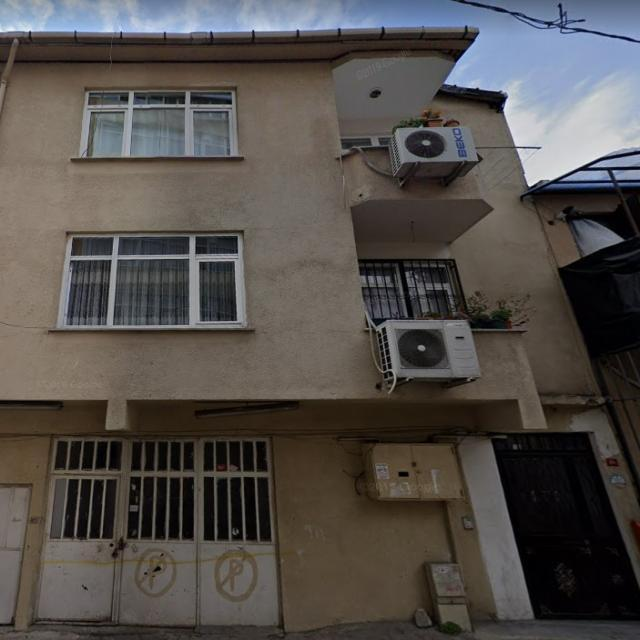Building: (0, 30, 640, 629)
